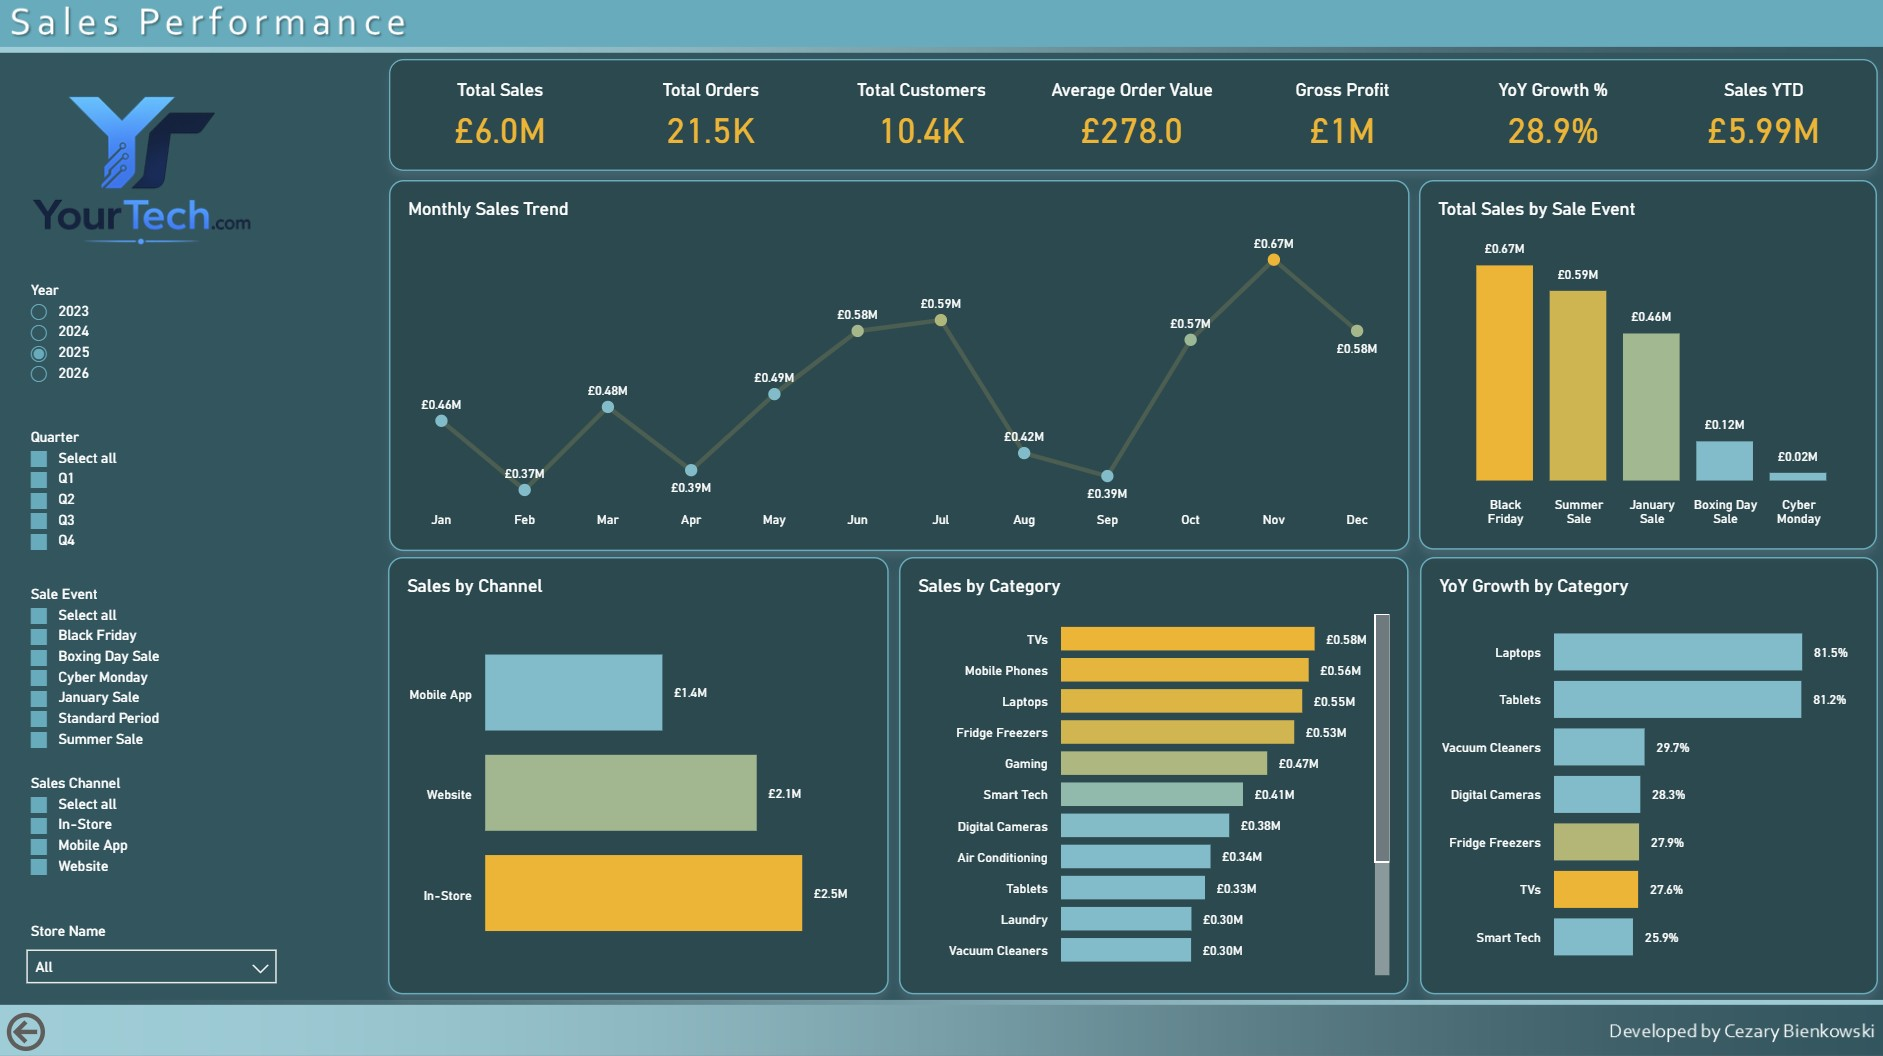

What the dashboard file says about the page in this screenshot:
{"tool":"powerbi","page":{"name":"Sales Performance","canvas":[1280,720],"ordinal":1},"visuals":[{"type":"lineChart","title":"Monthly Sales Trend","fields":{"Y":["Sales.Total Sales"],"Category":["dDate.Year","dDate.Quarter","dDate.Month"]},"box":[263.9,123.3,693,251.7],"z":0},{"type":"barChart","title":"Sales by Channel","fields":{"Category":["fSales.Sales_Channel"],"Y":["_Measures.Total Sales"]},"box":[263.7,379.6,339.6,297.1],"z":1000},{"type":"barChart","title":"Sales by Category","fields":{"Category":["Products.Product_Category"],"Y":["Sales.Total Sales"]},"box":[610.6,379.6,346.2,297.1],"z":2000},{"type":"tableEx","title":"Top 10 Products","fields":{"Values":["Products.Product_Name","Sales.Total Sales"]},"box":[963.9,379.6,310.8,297.1],"z":3000},{"type":"clusteredColumnChart","fields":{"Y":["_Measures.Total Sales"],"Category":["dSale Event.Sale_Event_Name"]},"box":[963.8,123.5,310.9,251.1],"z":4000},{"type":"actionButton","box":[0,684.3,100.2,35.2],"z":5000},{"type":"cardVisual","fields":{"Data":["_Measures.Total Sales","_Measures.Total Orders","_Measures.Total Customers","_Measures.Average Order Value","_Measures.Gross Profit","_Measures.YoY Growth %","_Measures.Sales YTD"]},"box":[263.9,41.1,1011,76.4],"z":6000},{"type":"slicer","fields":{"Values":["dDate.Year"]},"box":[13,192.5,179.6,89.4],"z":7000},{"type":"slicer","fields":{"Values":["dDate.Quarter"]},"box":[13,292.8,179.6,95.9],"z":8000},{"type":"slicer","fields":{"Values":["dSale Event.Sale_Event_Name"]},"box":[13,399.5,179.6,117.5],"z":10000},{"type":"slicer","fields":{"Values":["dStores.Store Name"]},"box":[13,628.1,180.3,42.5],"z":13000},{"type":"slicer","fields":{"Values":["fSales.Sales Channel"]},"box":[13,527.9,180.3,79.3],"z":14000}]}

Visuals, with their boxes in screenshot pixels (x1, y1, x2, y2), scaled from the page's 1280x720 canvas onto the 1883x1056 screenshot:
"Monthly Sales Trend" lineChart: Rect(388, 181, 1408, 550)
"Sales by Channel" barChart: Rect(388, 557, 888, 992)
"Sales by Category" barChart: Rect(898, 557, 1408, 992)
"Top 10 Products" tableEx: Rect(1418, 557, 1875, 992)
clusteredColumnChart - _Measures.Total Sales x dSale Event.Sale_Event_Name: Rect(1418, 181, 1875, 549)
actionButton: Rect(0, 1004, 147, 1055)
cardVisual - _Measures.Total Sales x _Measures.Total Orders: Rect(388, 60, 1875, 172)
slicer - dDate.Year: Rect(19, 282, 283, 413)
slicer - dDate.Quarter: Rect(19, 429, 283, 570)
slicer - dSale Event.Sale_Event_Name: Rect(19, 586, 283, 758)
slicer - dStores.Store Name: Rect(19, 921, 284, 984)
slicer - fSales.Sales Channel: Rect(19, 774, 284, 891)
